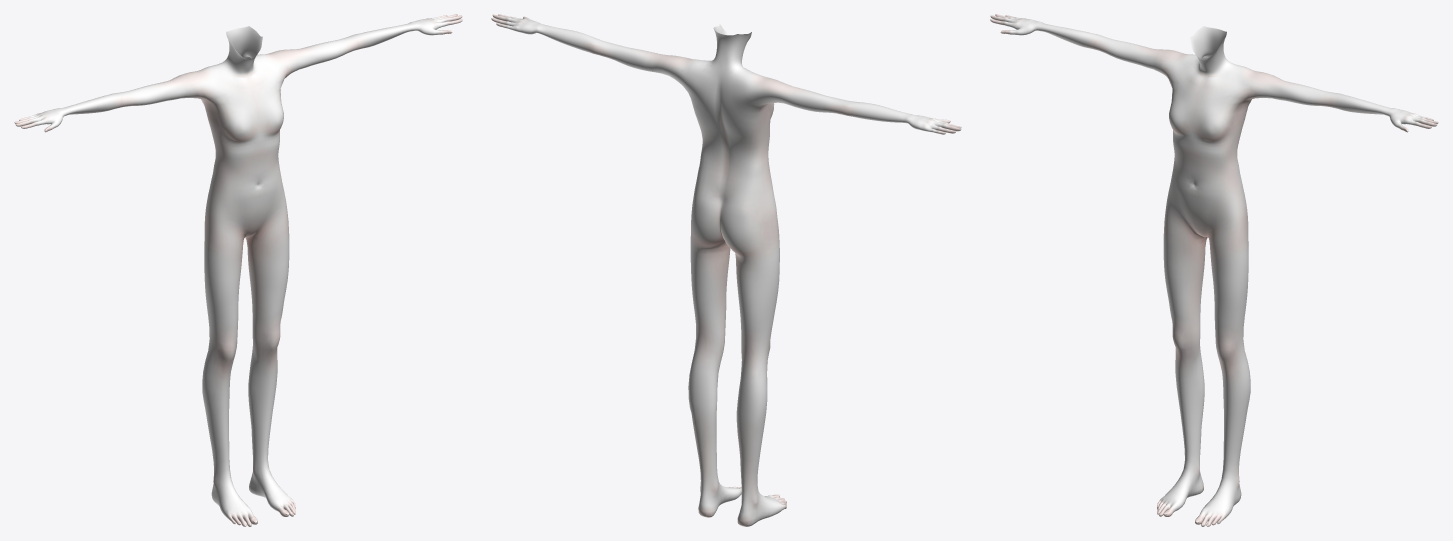
The model's file is body 2.0 F.glb.
3 renders of one model, left to right at view 1: azimuth 30°, elevation 25°; view 2: azimuth 150°, elevation 25°; view 3: azimuth 330°, elevation 25°, orthographic. The views are drawn at different scales.
Parts seen in each view (by area): view 1: CC_Base_Body; view 2: CC_Base_Body; view 3: CC_Base_Body.
Boxes of the visible parts, x1,y1,x2,y2 form: CC_Base_Body: (14, 14, 462, 526); CC_Base_Body: (491, 14, 961, 526); CC_Base_Body: (990, 14, 1438, 526).
Size of the model in its own units: 1.43 by 1.43 by 0.2405.
Materials: 5 (5 with a texture image).
